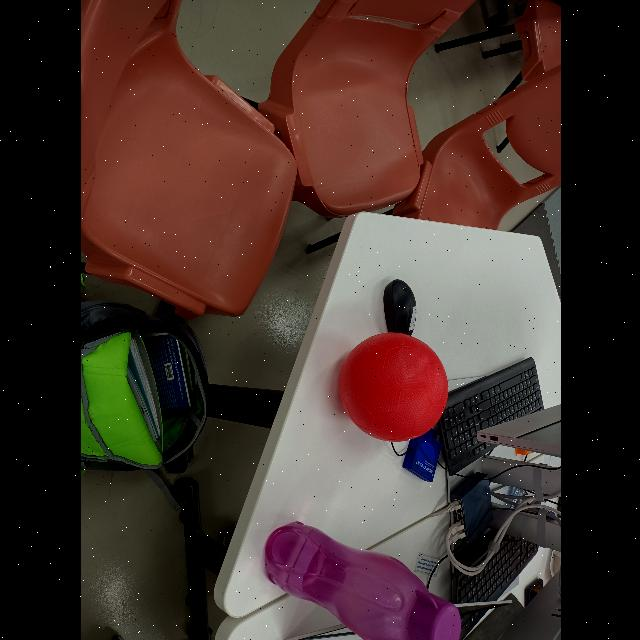R: (336, 334, 450, 446)
